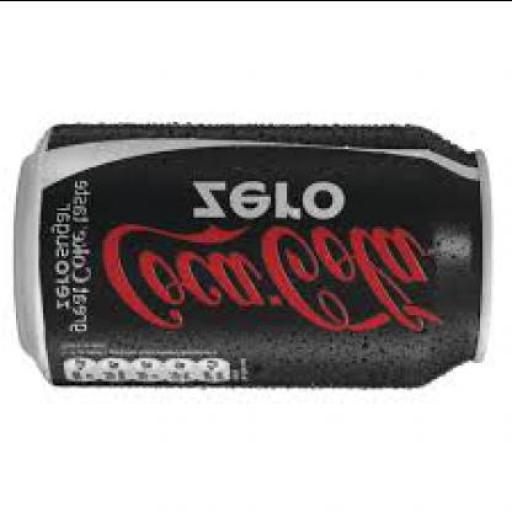metal: (18, 123, 494, 389)
